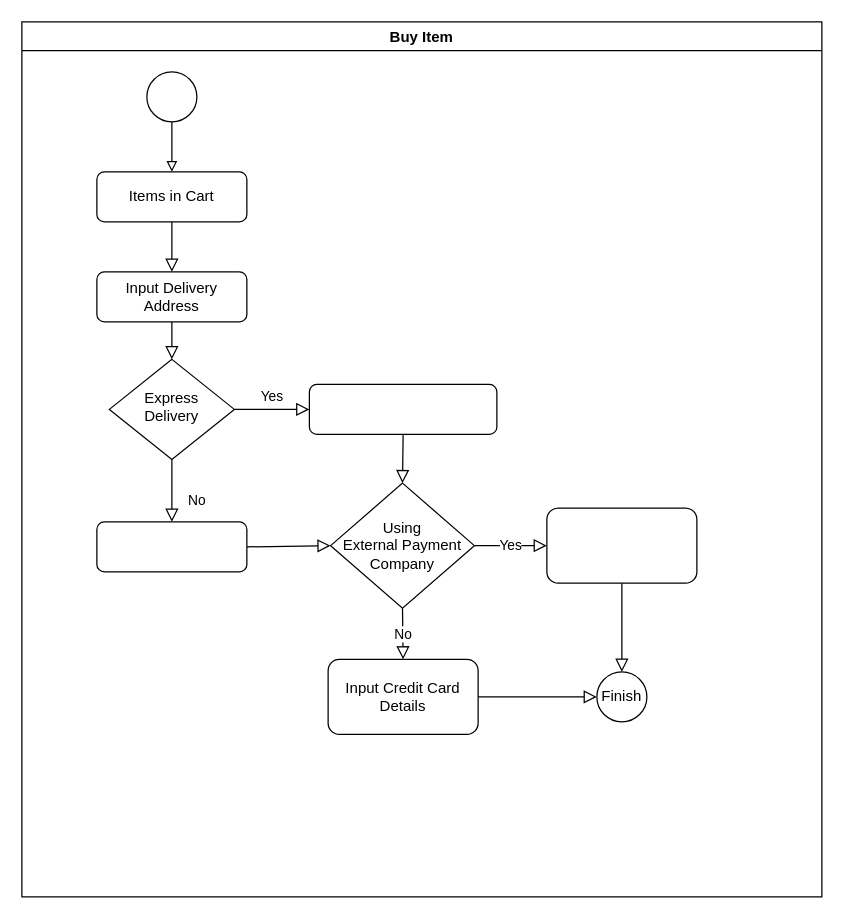
This 844x919 diagram has some shape labels left out. The box of each missing label's shape, as (x1, y1, x2, y2) in pixels:
Login to External Payment Company: (546, 507, 697, 583)
Start: (146, 71, 197, 122)
€10 shipping cost 2 day shipping: (308, 383, 497, 434)
€5 shipping cost 5 day shipping: (96, 521, 247, 572)
